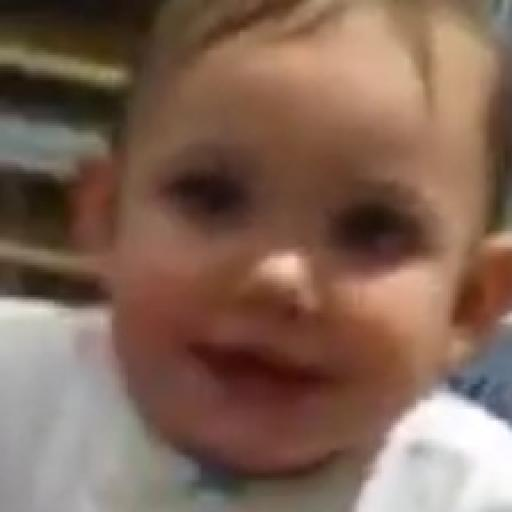Autism: (93, 20, 512, 512)
